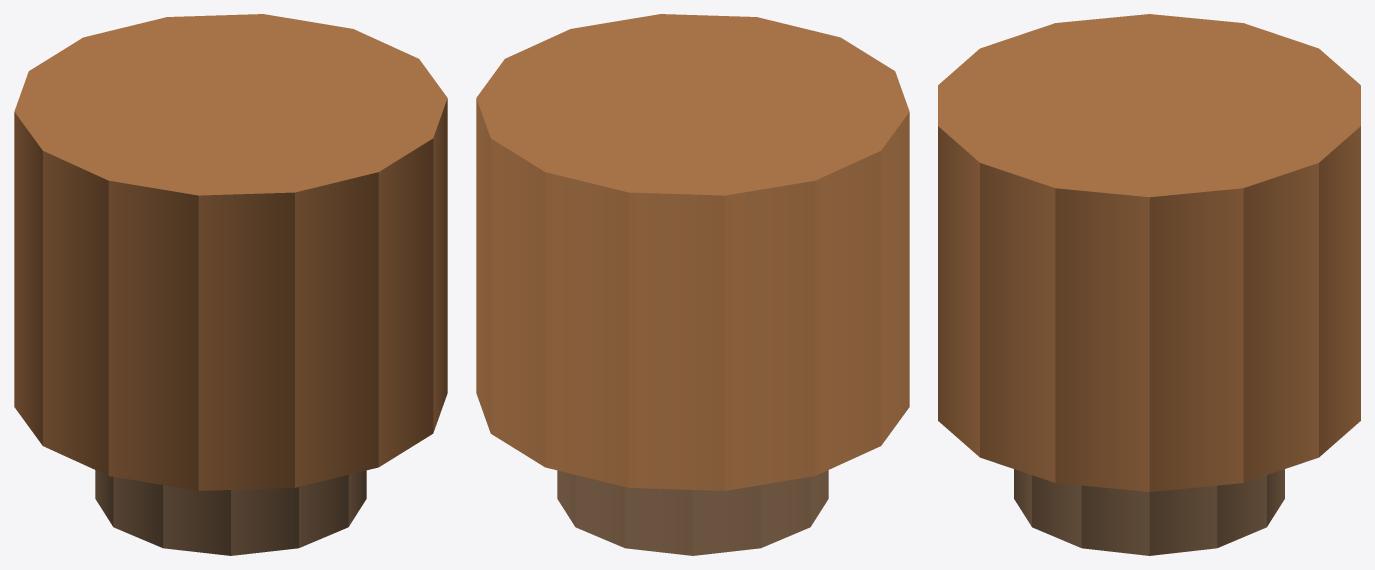
Rendered from garage-cable-spool.obj.
3 renders of one model, left to right at view 1: azimuth 30°, elevation 25°; view 2: azimuth 150°, elevation 25°; view 3: azimuth 270°, elevation 25°, orthographic.
Visible parts, largest first — view 1: garage-cable-spool; view 2: garage-cable-spool; view 3: garage-cable-spool.
Part boxes in pixels (x1=…): garage-cable-spool: x1=14, y1=14, x2=447, y2=555; garage-cable-spool: x1=476, y1=14, x2=909, y2=555; garage-cable-spool: x1=938, y1=14, x2=1360, y2=555.
Size of the model in its own units: 0.32 by 0.32 by 0.312.
